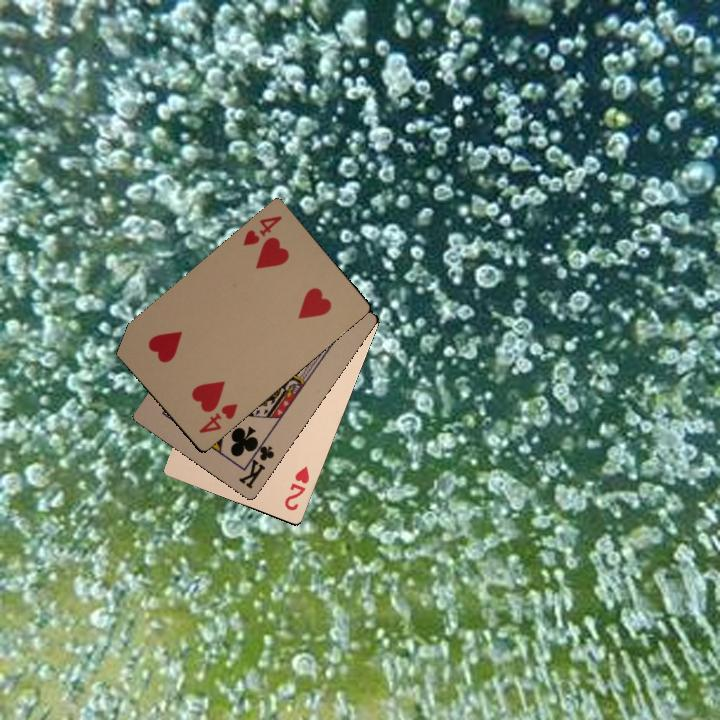2h: (280, 462, 312, 513)
4h: (239, 211, 285, 250), (195, 399, 240, 436)
Kc: (234, 435, 277, 491)
